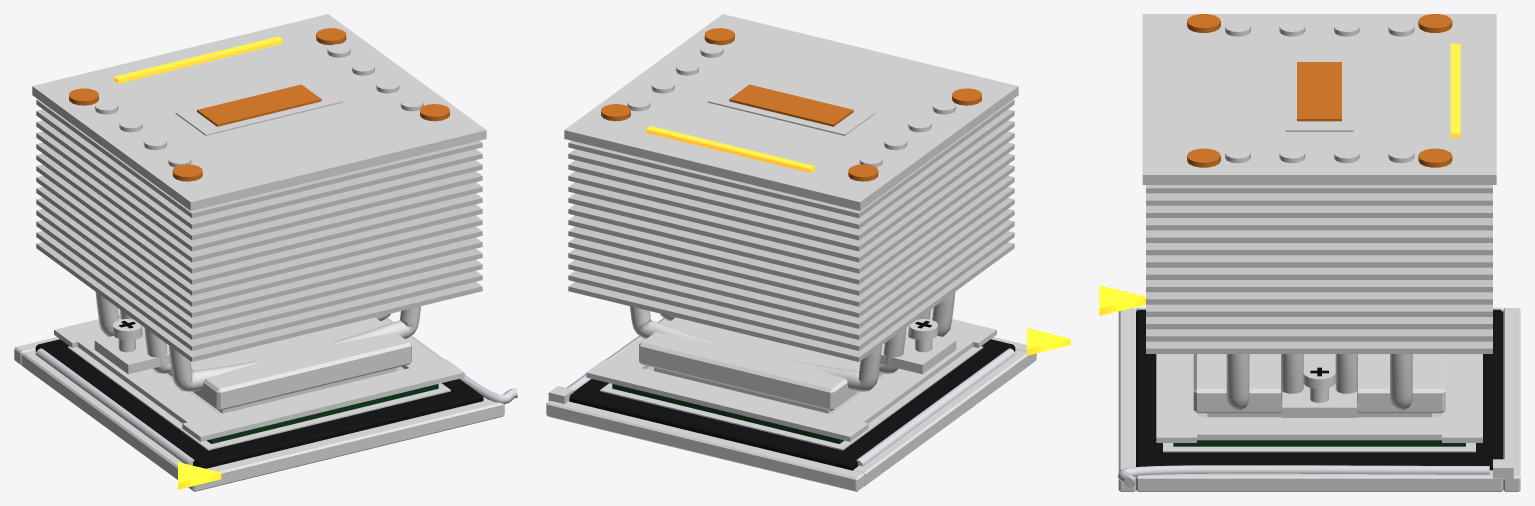
File: hwm_cpu_epyc_9354.glb
3 renders of one model, left to right at view 1: azimuth 30°, elevation 25°; view 2: azimuth 150°, elevation 25°; view 3: azimuth 270°, elevation 25°, orthographic. The views are drawn at different scales.
Parts seen in each view (by area): view 1: Cooler, Socket, Frame, CPU, Screw_0, Lever; view 2: Cooler, Socket, Frame, CPU, Screw_0; view 3: Cooler, Socket, Frame, Lever, CPU, Screw_1.
Part boxes in pixels (x1,y1,x2,y2): Cooler: (32,14,486,410); Socket: (14,320,504,491); Frame: (54,319,464,441); CPU: (164,366,438,443); Screw_0: (113,319,141,352); Lever: (385,317,517,403); Cooler: (564,14,1018,410); Socket: (546,317,1070,491); Frame: (586,319,996,441); CPU: (612,366,886,443); Screw_0: (909,319,937,352); Cooler: (1142,14,1496,417); Socket: (1099,285,1520,491); Frame: (1156,354,1482,442); Lever: (1118,465,1489,487); CPU: (1173,413,1465,446); Screw_1: (1303,365,1335,402).
Size of the model in its own units: 0.1338 by 0.1036 by 0.1239.
